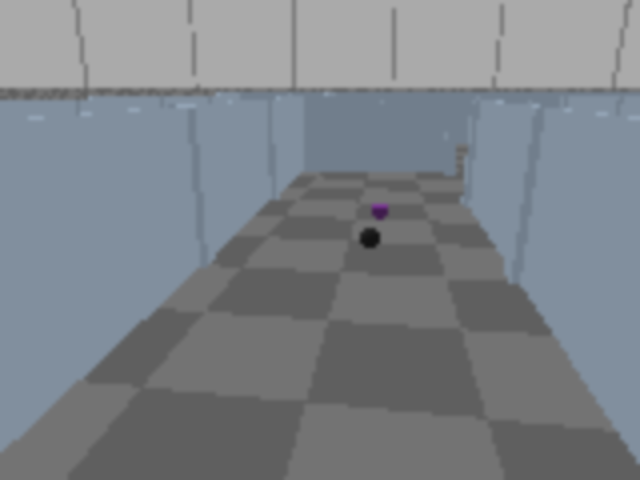puck: (359, 226, 382, 252)
